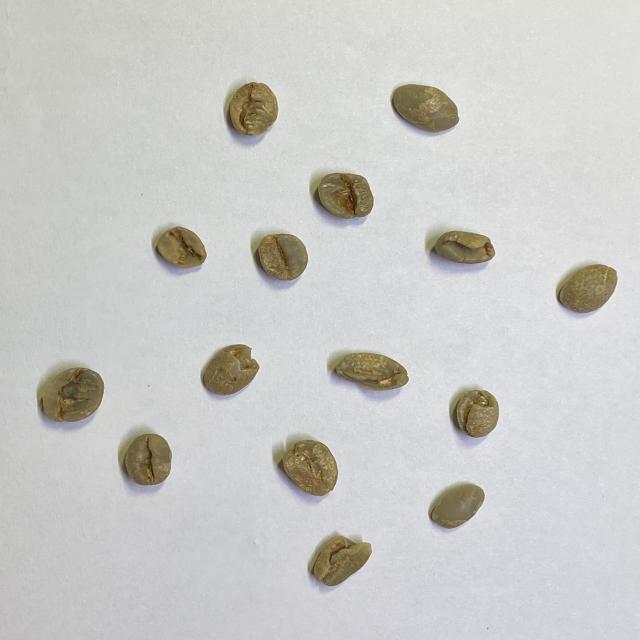bad: (40, 366, 106, 423), (307, 534, 373, 590), (280, 438, 340, 497), (334, 351, 409, 392), (203, 344, 261, 396), (228, 81, 280, 137), (317, 171, 375, 220), (155, 224, 208, 270), (455, 389, 501, 438), (434, 230, 497, 265)
good: (392, 83, 461, 134), (557, 263, 619, 315), (428, 482, 486, 530), (124, 432, 173, 487), (258, 233, 309, 281)
